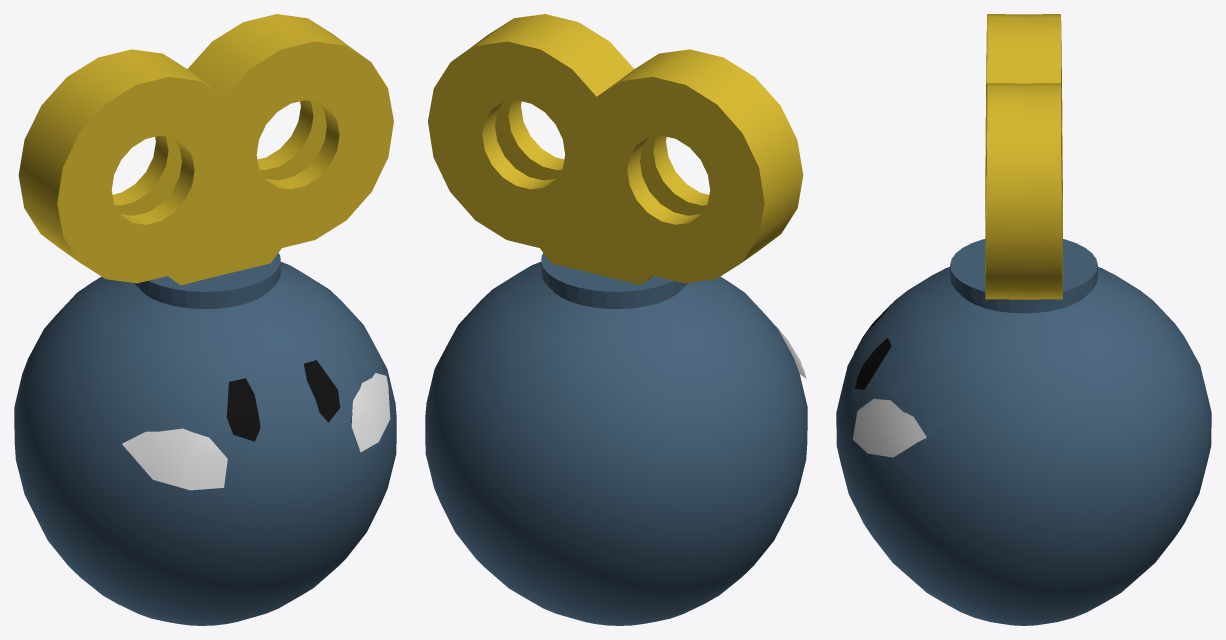
File: 子弹19小炸弹.FBX
3 renders of one model, left to right at view 1: azimuth 30°, elevation 25°; view 2: azimuth 150°, elevation 25°; view 3: azimuth 270°, elevation 25°, orthographic. The views are drawn at different scales.
Parts seen in each view (by area): view 1: Sphere002, Cylinder003, 对象002, 对象004; view 2: Sphere002, Cylinder003; view 3: Sphere002, Cylinder003, 对象002, 对象004.
Part boxes in pixels (left/top/right/bottom): Sphere002: left=14, top=253, right=396, bottom=625; Cylinder003: left=18, top=14, right=393, bottom=285; 对象002: left=122, top=373, right=390, bottom=490; 对象004: left=226, top=360, right=340, bottom=441; Sphere002: left=425, top=253, right=807, bottom=625; Cylinder003: left=428, top=14, right=803, bottom=285; Sphere002: left=836, top=239, right=1211, bottom=625; Cylinder003: left=985, top=14, right=1062, bottom=299; 对象002: left=852, top=350, right=926, bottom=457; 对象004: left=854, top=304, right=891, bottom=389.
Bounding box in the file's own units: 47.32 × 75.55 × 46.66.
